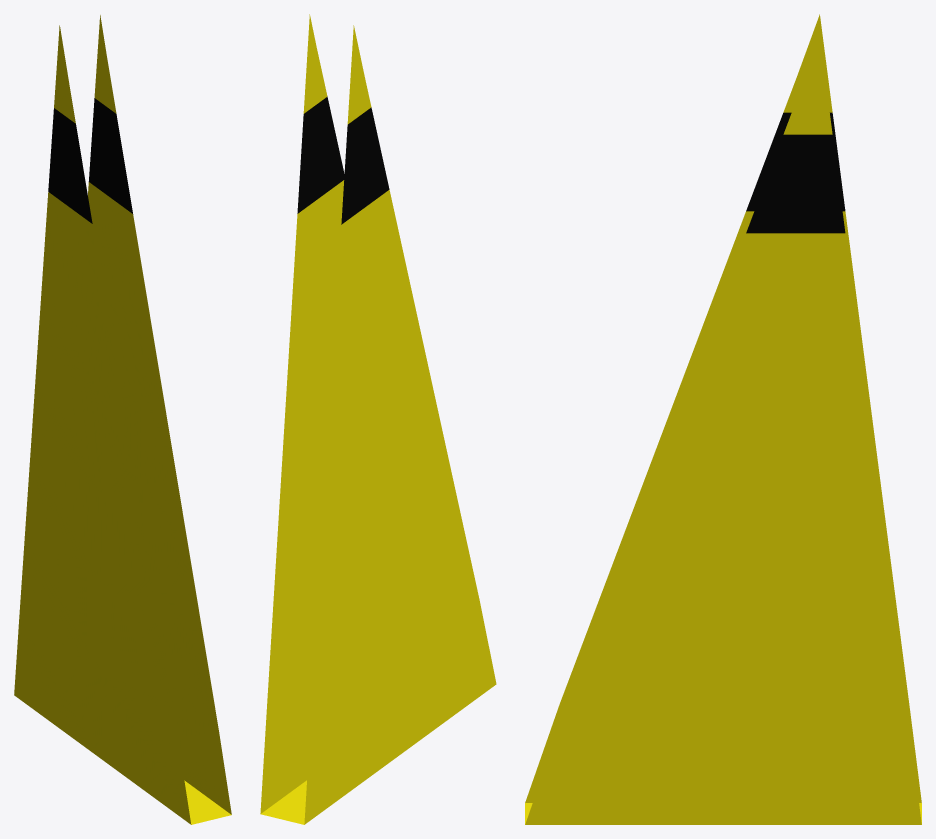
File: кусок 3.fbx
3 views of the same model, side by side, from view 1: azimuth 30°, elevation 25°; view 2: azimuth 150°, elevation 25°; view 3: azimuth 270°, elevation 25° (orthographic). The views are drawn at different scales.
Parts seen in each view (by area): view 1: Pass_PassBase_Mat_0.013, Pass_PassBlack_Mat_0.012; view 2: Pass_PassBase_Mat_0.013, Pass_PassBlack_Mat_0.012; view 3: Pass_PassBase_Mat_0.013, Pass_PassBlack_Mat_0.012.
Boxes of the visible parts, x1,y1,x2,y2 form: Pass_PassBase_Mat_0.013: [14, 15, 231, 824]; Pass_PassBlack_Mat_0.012: [48, 98, 132, 223]; Pass_PassBase_Mat_0.013: [260, 14, 496, 824]; Pass_PassBlack_Mat_0.012: [297, 96, 389, 224]; Pass_PassBase_Mat_0.013: [525, 14, 921, 824]; Pass_PassBlack_Mat_0.012: [746, 112, 845, 233].
Size of the model in its own units: 0.0666 by 1.11 by 0.5044.
